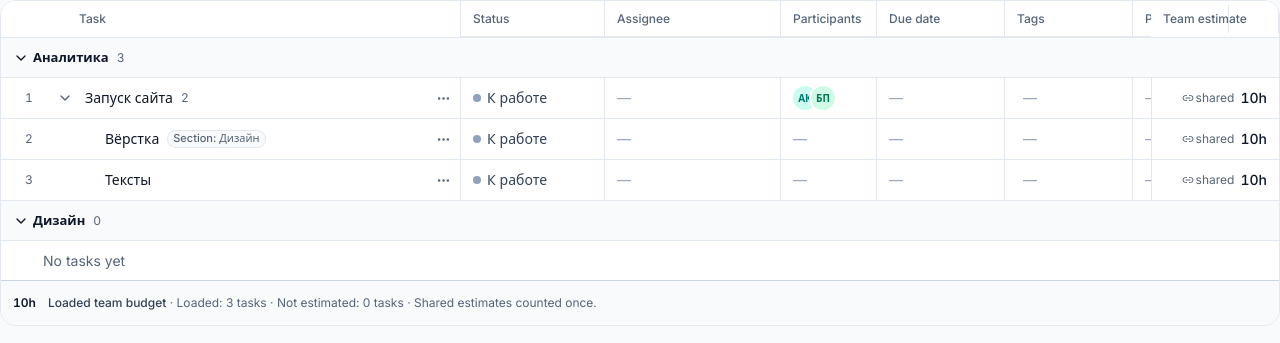
TaskTable hierarchy › collapses and expands subtasks, keeping focus on the toggle and the total unchanged
The image size is (1280, 343).
Expected: the text "Section: Дизайн" is shown, [173, 131, 260, 147]
Expected: the text "10h" next to "Loaded team budget" is shown, [13, 295, 36, 310]
Click the button named "Collapse subtasks of “Запуск сайта”" at (65, 98), box [53, 86, 77, 110]
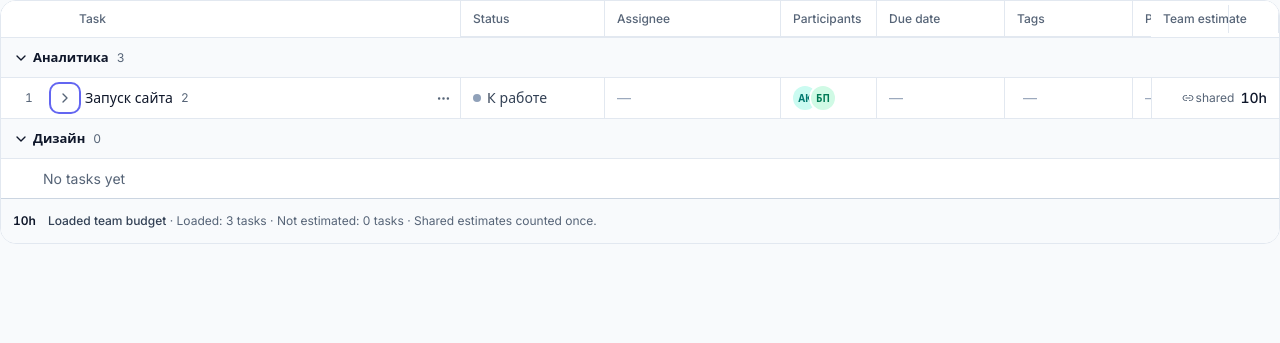
Expected: the button "Вёрстка" is gone
Expected: the button "Тексты" is gone
Expected: the button named "Expand subtasks of “Запуск сайта”" is collapsed, [53, 86, 77, 110]
Press Enter
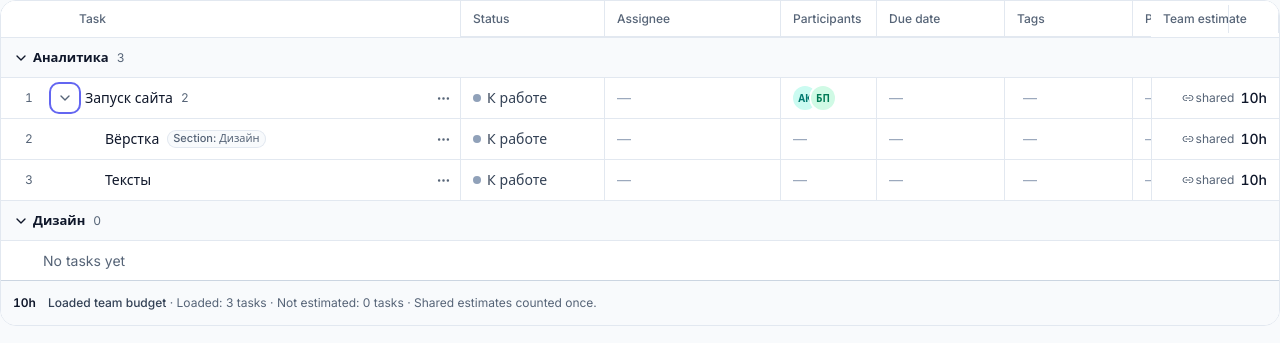
Expected: the button "Вёрстка" is shown, [101, 125, 163, 153]
